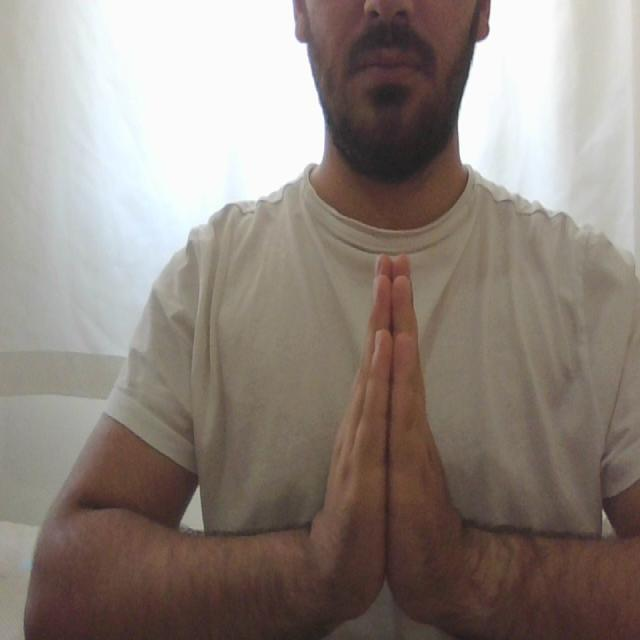Ozur-Dilemek: (309, 218, 474, 640)
